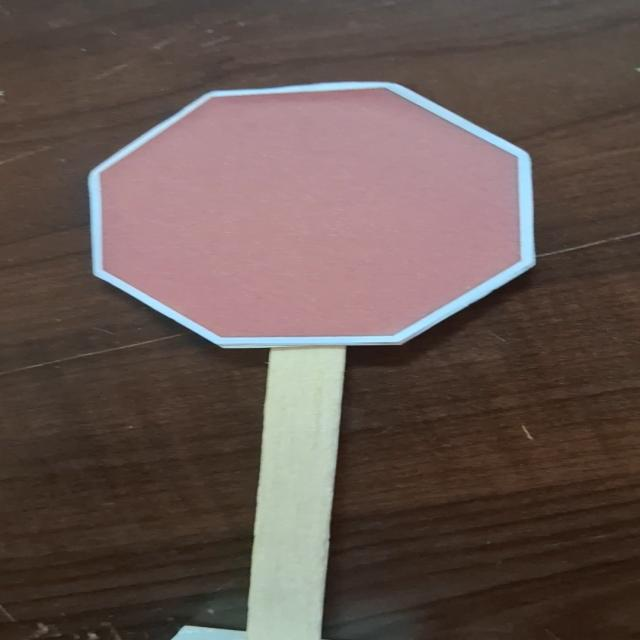Stop: (80, 70, 542, 350)
